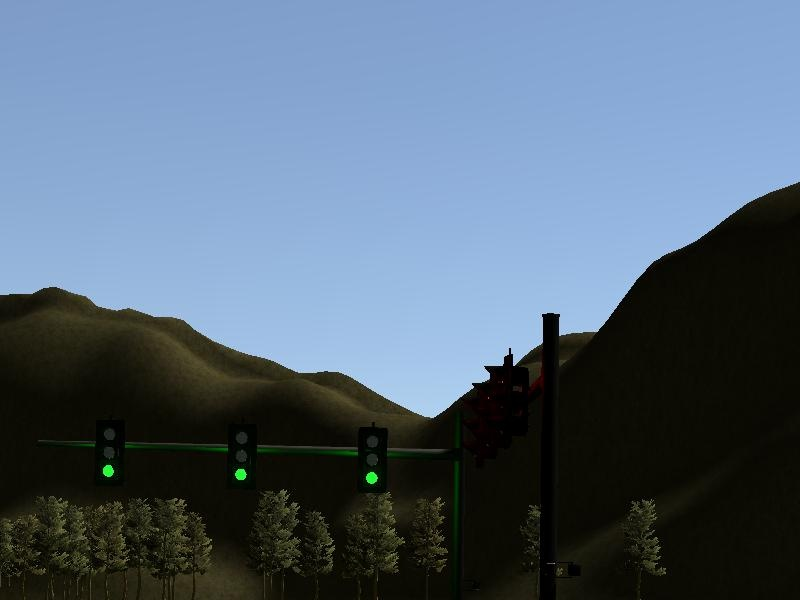Green: (356, 424, 389, 495), (226, 423, 257, 492), (94, 418, 125, 486)
